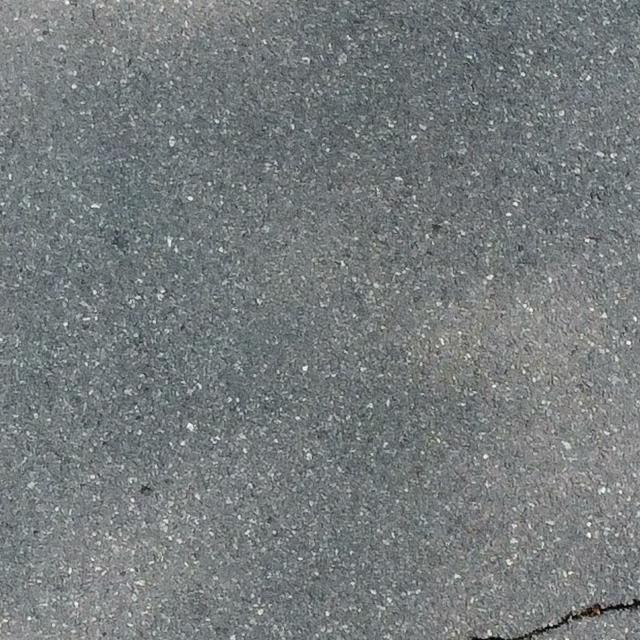TransverseCrack: (472, 599, 640, 639)
